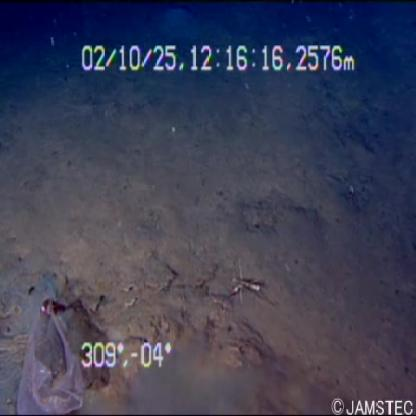Rác: (10, 289, 100, 416)
